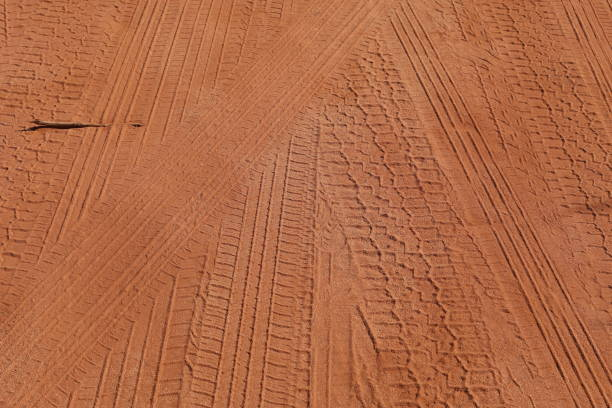vehicle_track: (0, 0, 609, 407), (395, 4, 608, 405), (315, 34, 504, 405), (0, 0, 132, 314), (71, 180, 186, 285)
